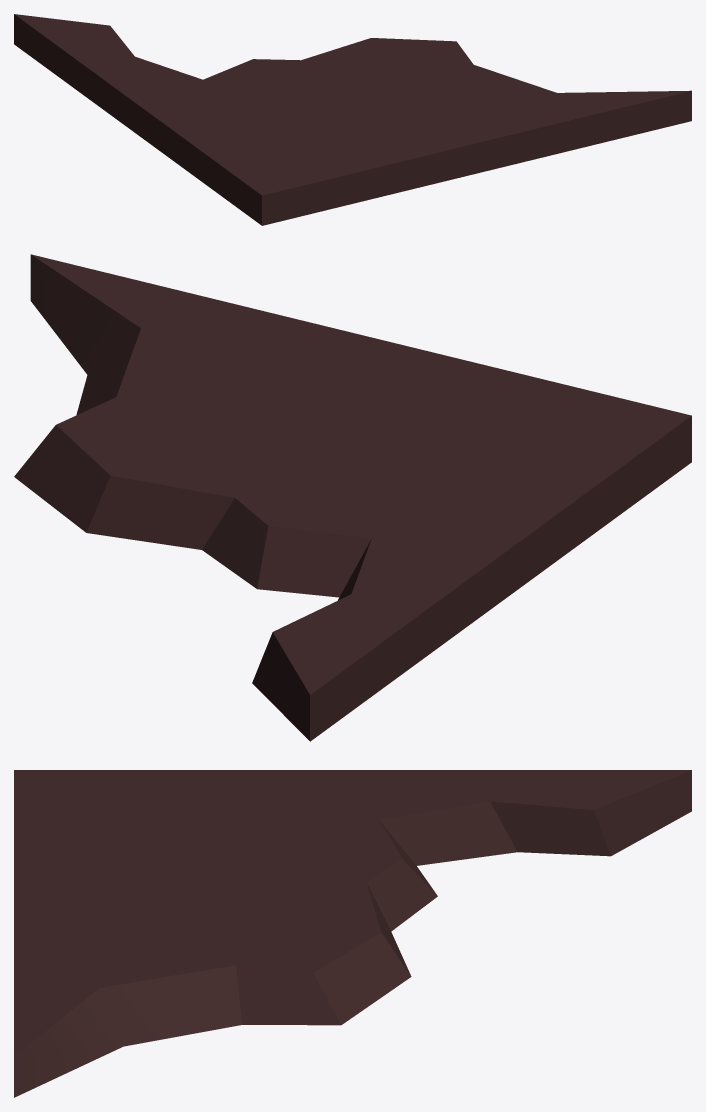
3 renders of one model, top to bottom at view 1: azimuth 30°, elevation 25°; view 2: azimuth 150°, elevation 25°; view 3: azimuth 270°, elevation 25°, orthographic. The views are drawn at different scales.
Parts seen in each view (by area): view 1: TS3; view 2: TS3; view 3: TS3.
Part boxes in pixels (bbox=[...]): TS3: bbox=[14, 14, 691, 225]; TS3: bbox=[14, 254, 691, 741]; TS3: bbox=[14, 770, 691, 1097].
Bounding box in the file's own units: 200 × 13.48 × 200.
